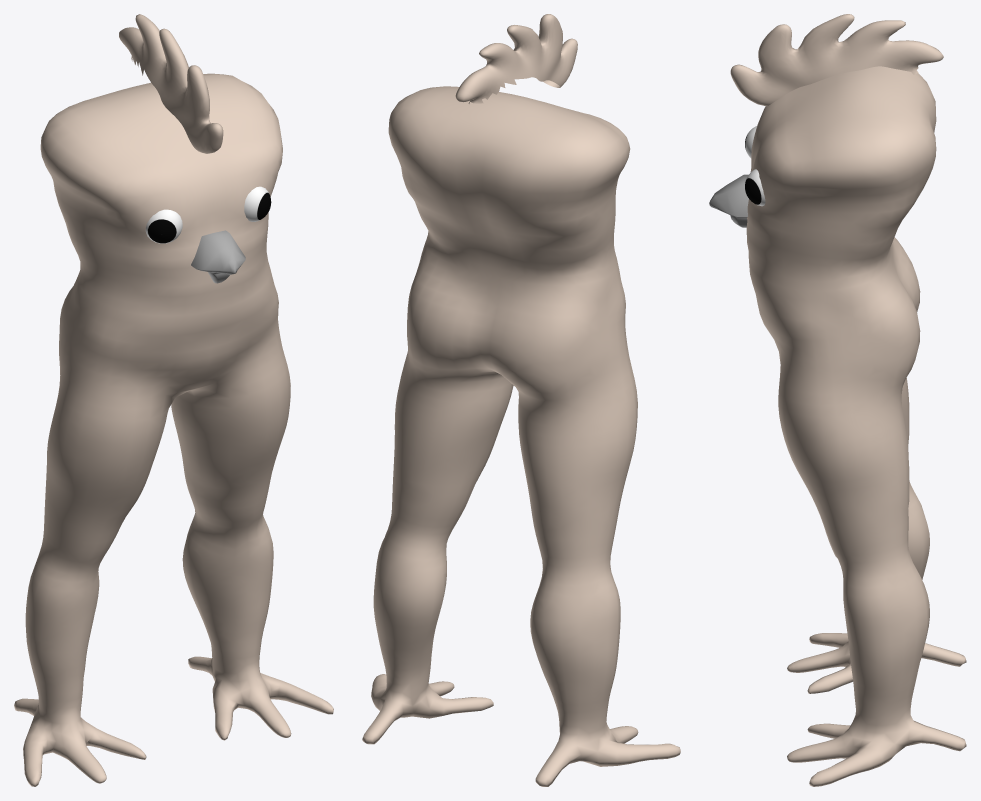
Rendered from TorsoChicken.fbx.
3 views of the same model, side by side, from view 1: azimuth 30°, elevation 25°; view 2: azimuth 150°, elevation 25°; view 3: azimuth 270°, elevation 25° (orthographic).
Parts seen in each view (by area): view 1: humanBody-retopo 1-retopo 3-retopo 1, sphere-retopo 1-reduced-retopo 1-retopo 1-retopo 1-retopo 1, pCube1, pSphere2, pSphere3; view 2: humanBody-retopo 1-retopo 3-retopo 1, sphere-retopo 1-reduced-retopo 1-retopo 1-retopo 1-retopo 1; view 3: humanBody-retopo 1-retopo 3-retopo 1, sphere-retopo 1-reduced-retopo 1-retopo 1-retopo 1-retopo 1, pCube1, pSphere3.
Part boxes in pixels (left/top/right/bottom): humanBody-retopo 1-retopo 3-retopo 1: left=14, top=73, right=333, bottom=786; sphere-retopo 1-reduced-retopo 1-retopo 1-retopo 1-retopo 1: left=119, top=14, right=223, bottom=153; pCube1: left=191, top=230, right=245, bottom=283; pSphere2: left=145, top=209, right=182, bottom=243; pSphere3: left=244, top=186, right=271, bottom=221; humanBody-retopo 1-retopo 3-retopo 1: left=362, top=86, right=680, bottom=786; sphere-retopo 1-reduced-retopo 1-retopo 1-retopo 1-retopo 1: left=455, top=14, right=577, bottom=103; humanBody-retopo 1-retopo 3-retopo 1: left=746, top=66, right=966, bottom=786; sphere-retopo 1-reduced-retopo 1-retopo 1-retopo 1-retopo 1: left=730, top=14, right=943, bottom=106; pCube1: left=709, top=174, right=748, bottom=227; pSphere3: left=745, top=169, right=765, bottom=206.
Size of the model in its own units: 305 by 681 by 226.
4 materials, 1 textured.
